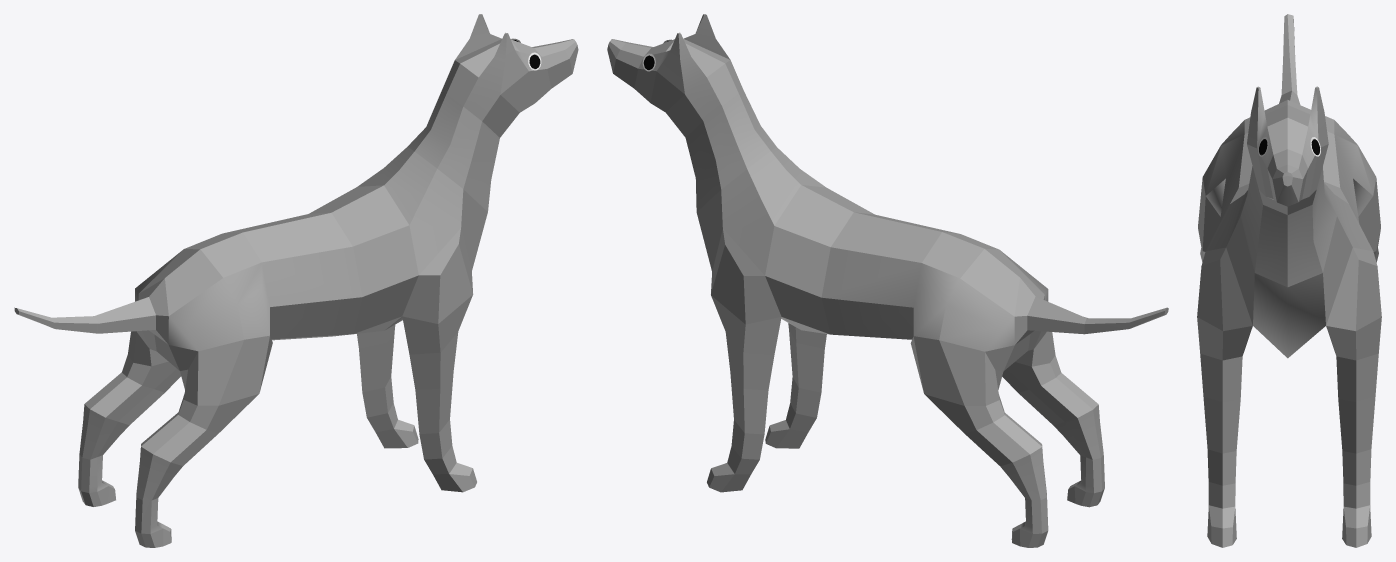
File: Dog.fbx
3 views of the same model, side by side, from view 1: azimuth 30°, elevation 25°; view 2: azimuth 150°, elevation 25°; view 3: azimuth 270°, elevation 25° (orthographic). The views are drawn at different scales.
Visible parts, largest first — view 1: Dawg; view 2: Dawg; view 3: Dawg, Plane.001.
Boxes of the visible parts, box(x1,y1,x2,y2) form: Dawg: box(14, 14, 578, 547); Dawg: box(607, 14, 1168, 547); Dawg: box(1197, 14, 1381, 547); Plane.001: box(1258, 137, 1320, 156).
Bounding box in the file's own units: 656 × 477 × 165.
